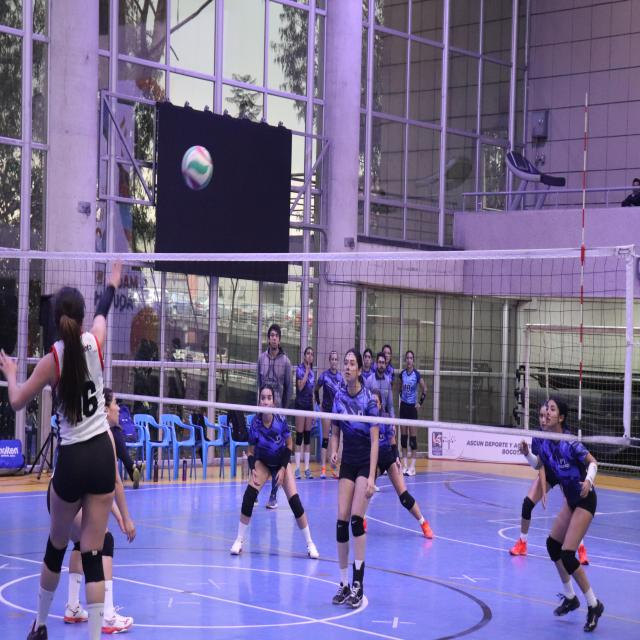volleyball: (181, 144, 213, 192)
